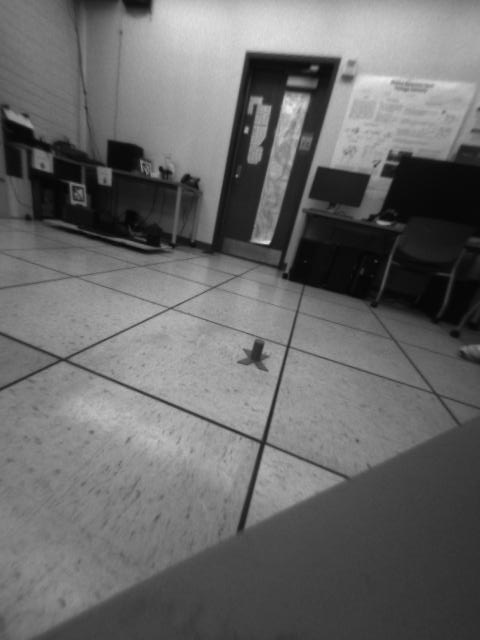X: (237, 338, 271, 373)
